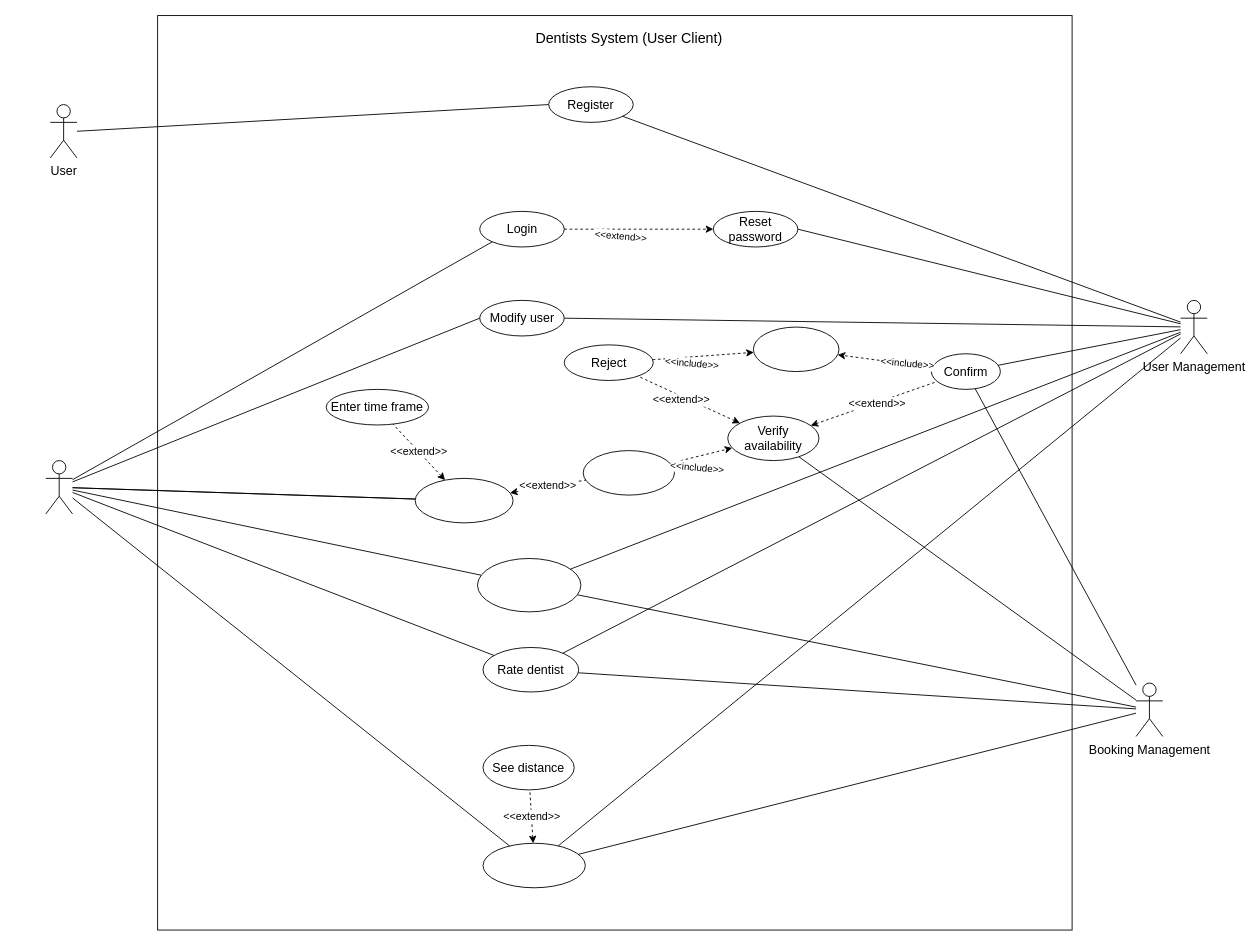
The diagram is 1260 pixels wide and 946 high, and some of its shapes have lost their labels. The shapes that lost their labels are listed below. From the top down, each one's box as (x1, y1, x2, y2) in pixels, then its label:
(752, 326, 839, 372): Display message
(45, 460, 73, 514): Registered user
(582, 450, 674, 495): Make appointment
(414, 477, 513, 523): Find dentist availability
(477, 558, 581, 612): Cancel appointment
(482, 842, 585, 888): Find dentists office
